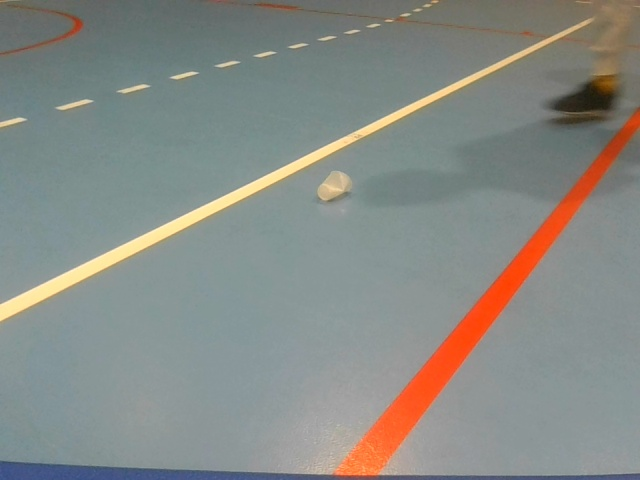plasticcup: (315, 168, 353, 202)
